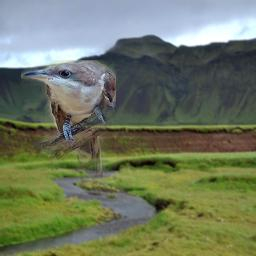Cuckoo: (21, 60, 116, 190)
